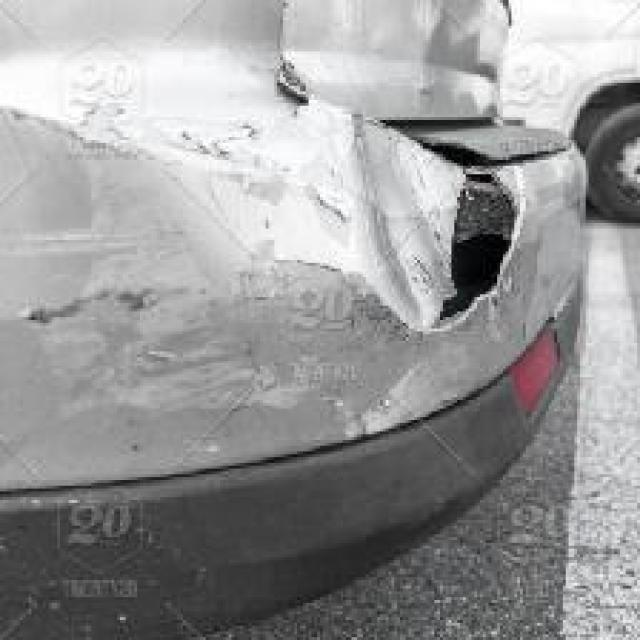damaged: (6, 2, 520, 334), (54, 343, 437, 448)
